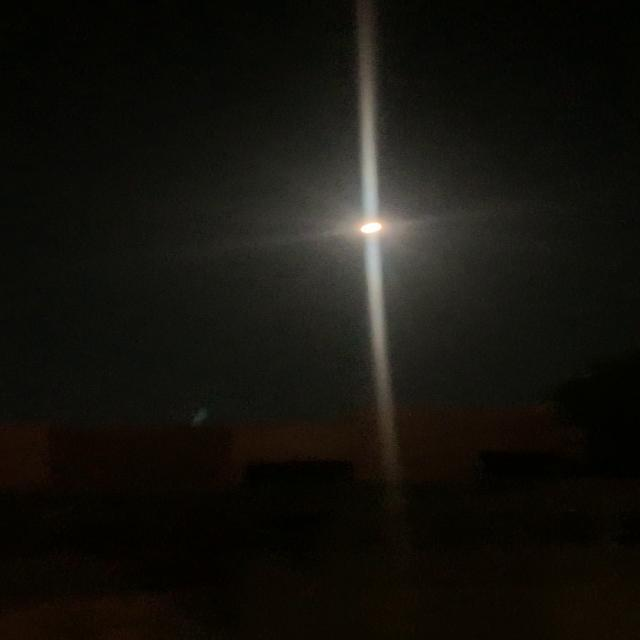moon: (342, 213, 404, 242)
